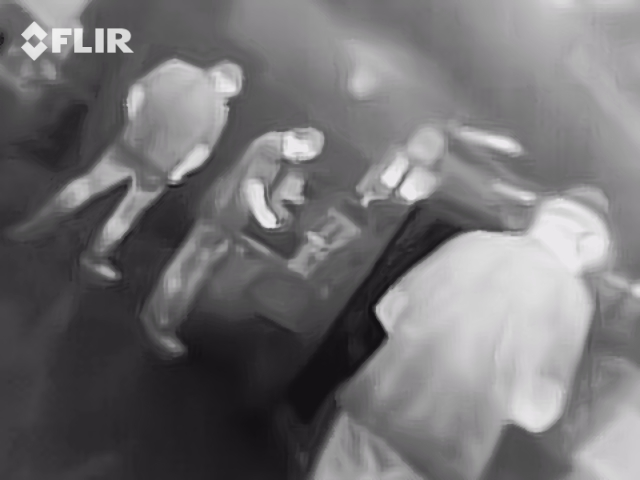head: (531, 185, 615, 271), (283, 126, 326, 166)
